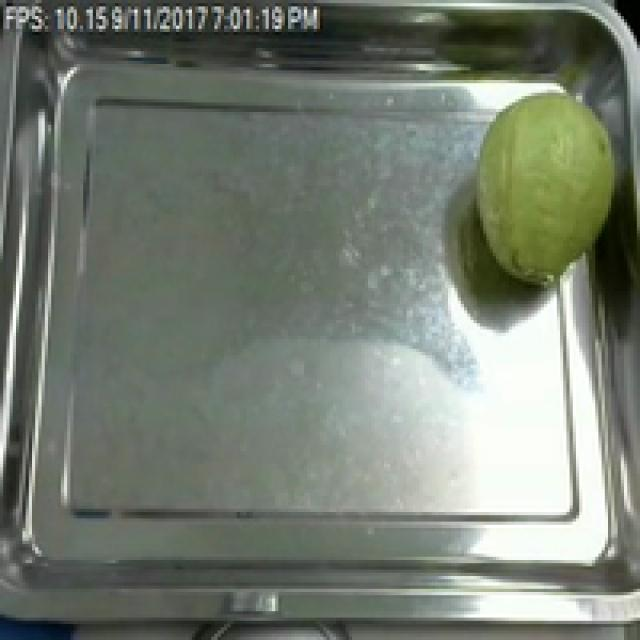Fruit: (454, 70, 637, 301)
